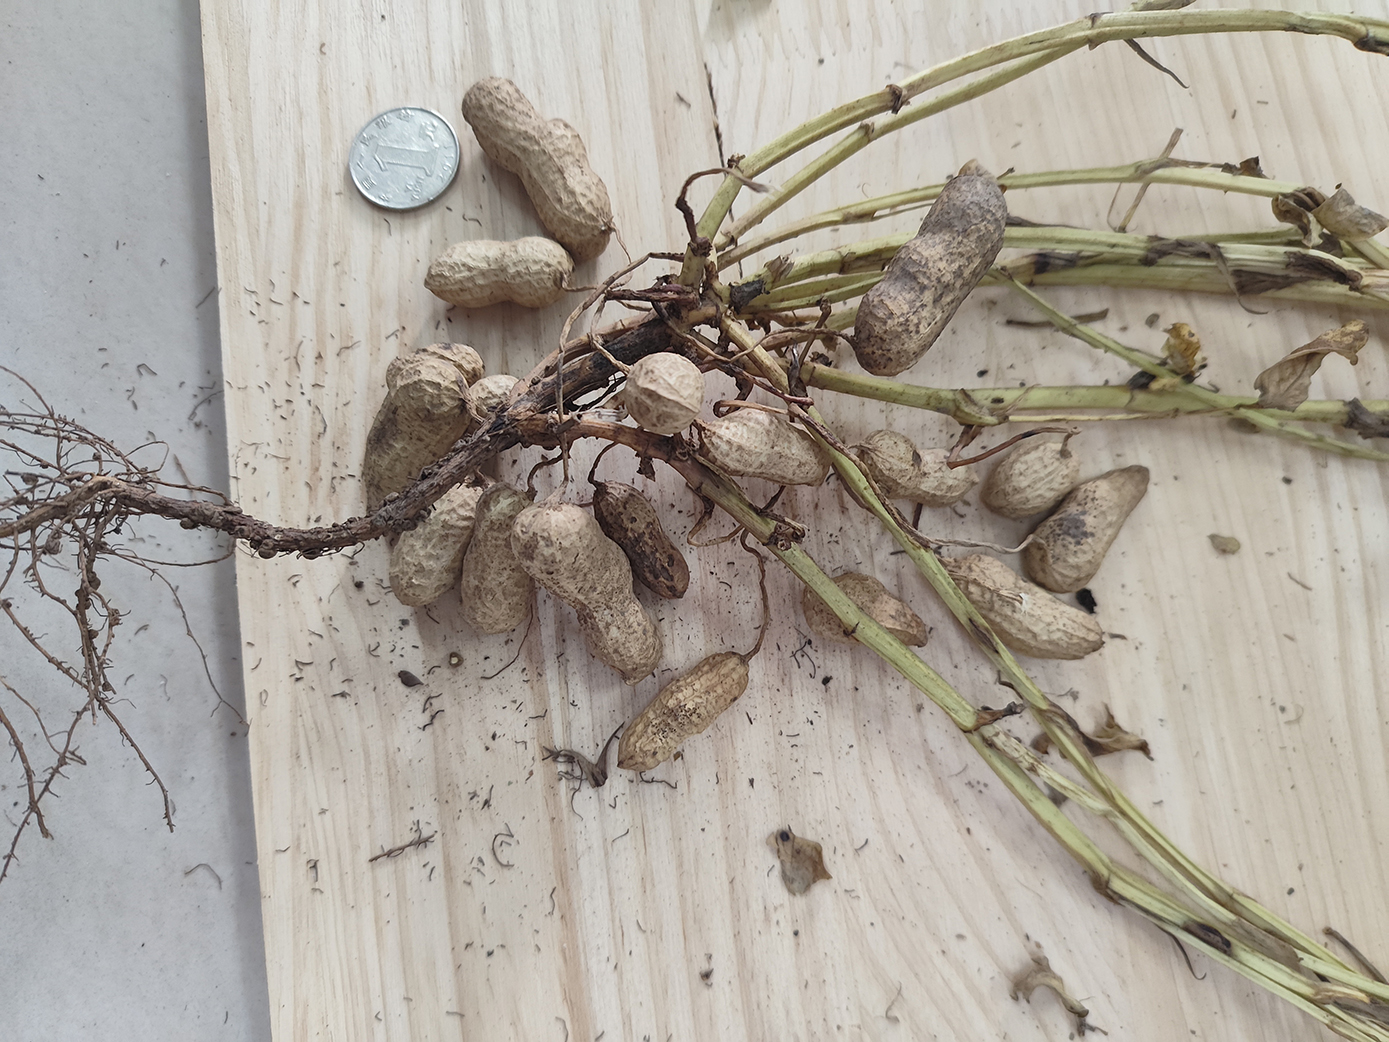h: (853, 160, 1009, 377), (462, 73, 614, 262), (508, 501, 662, 683), (946, 555, 1103, 661), (1021, 466, 1151, 592), (364, 361, 464, 517), (618, 651, 746, 769), (389, 481, 479, 607), (460, 484, 533, 635), (595, 482, 688, 597), (802, 571, 930, 655), (699, 408, 831, 486), (423, 238, 567, 308), (854, 432, 979, 510), (986, 441, 1078, 517), (627, 352, 704, 436), (386, 343, 481, 400), (468, 373, 526, 422)
